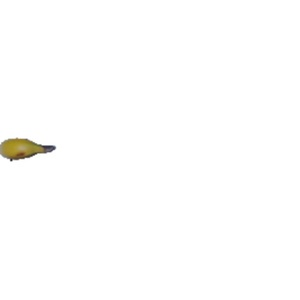banana: (1, 134, 59, 164)
